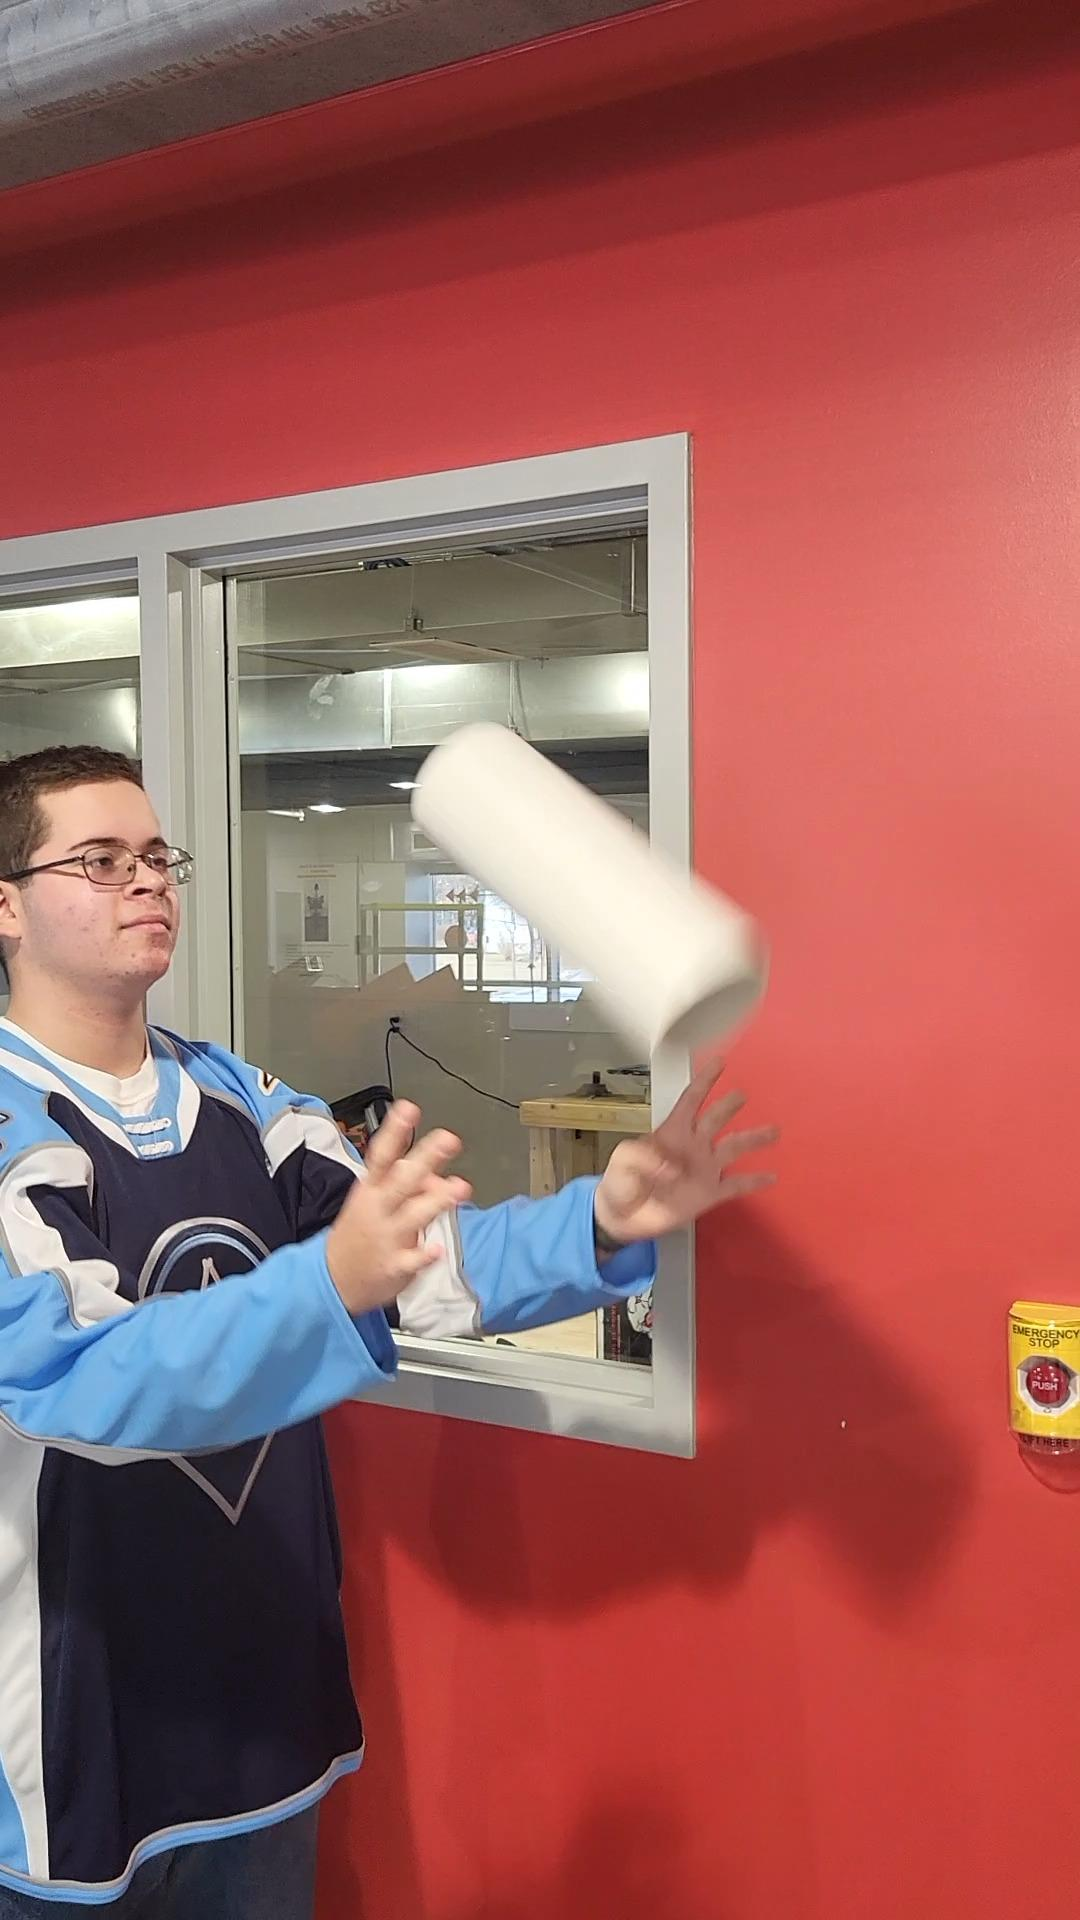coral: (400, 713, 781, 1080)
